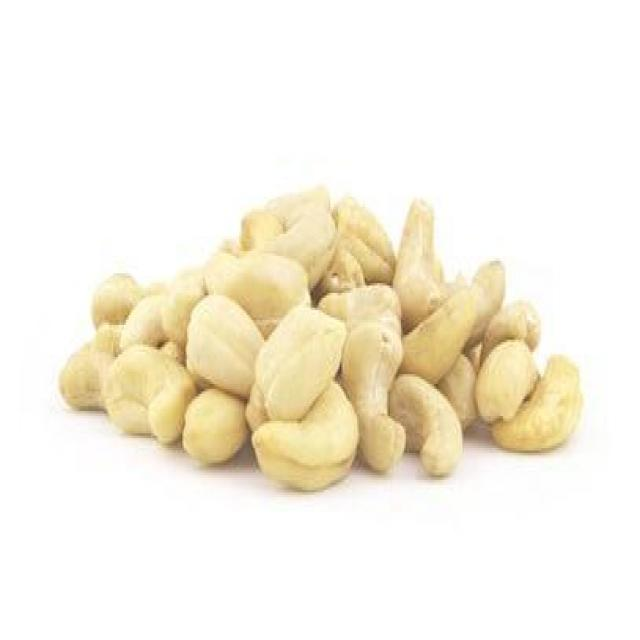Cashew: (265, 412, 354, 520), (95, 353, 191, 438), (175, 294, 254, 386), (277, 312, 347, 406), (355, 324, 398, 474), (411, 382, 468, 486), (474, 335, 539, 424), (532, 361, 584, 448), (407, 294, 465, 368)
